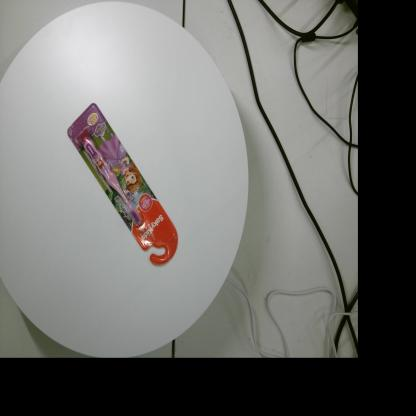Personal Hygiene: (67, 103, 178, 265)
